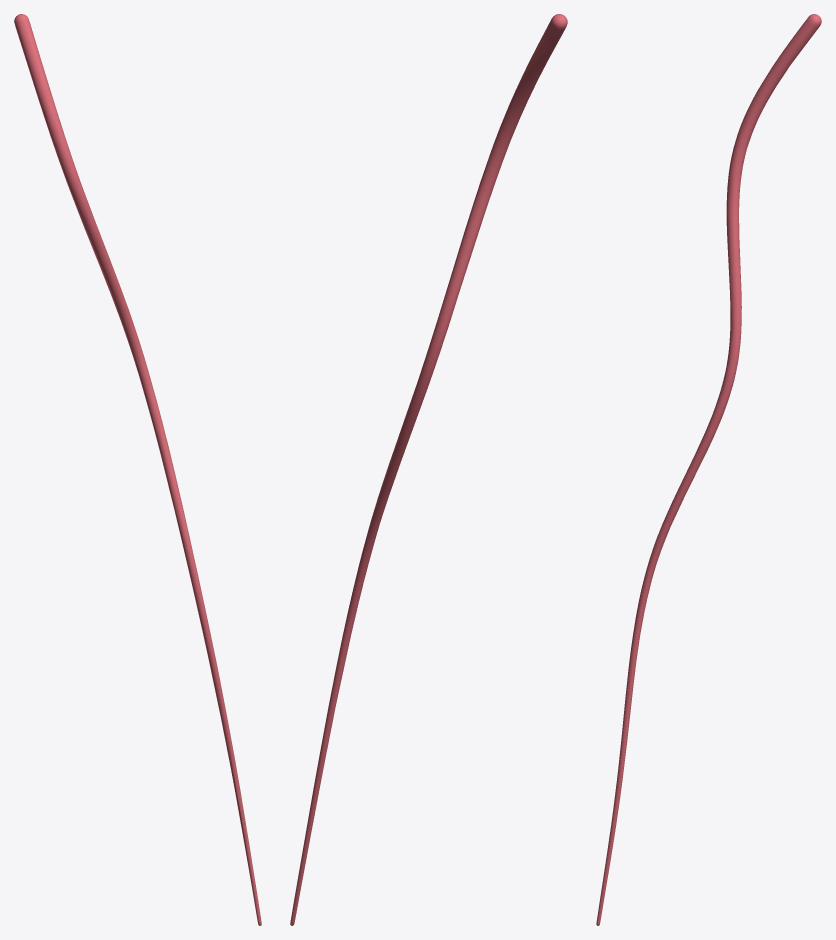
File: fma22813_fj2214.glb
The picture shows the model from 3 angles, left to right: view 1: azimuth 30°, elevation 25°; view 2: azimuth 210°, elevation 25°; view 3: azimuth 270°, elevation 25°; orthographic projection. The views are drawn at different scales.
Visible parts, largest first — view 1: FMA22813_FJ2214; view 2: FMA22813_FJ2214; view 3: FMA22813_FJ2214.
Boxes of the visible parts, x1,y1,x2,y2 form: FMA22813_FJ2214: [14, 14, 261, 925]; FMA22813_FJ2214: [290, 14, 567, 925]; FMA22813_FJ2214: [596, 14, 821, 925].
Bounding box in the file's own units: 0.0238 × 0.1434 × 0.0345.
